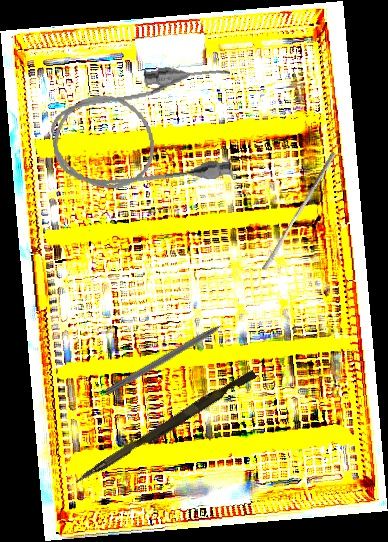Cannula: (44, 58, 245, 201)
Hook Surgical: (103, 313, 240, 398)
Pusher: (74, 365, 257, 491), (261, 149, 337, 273)
